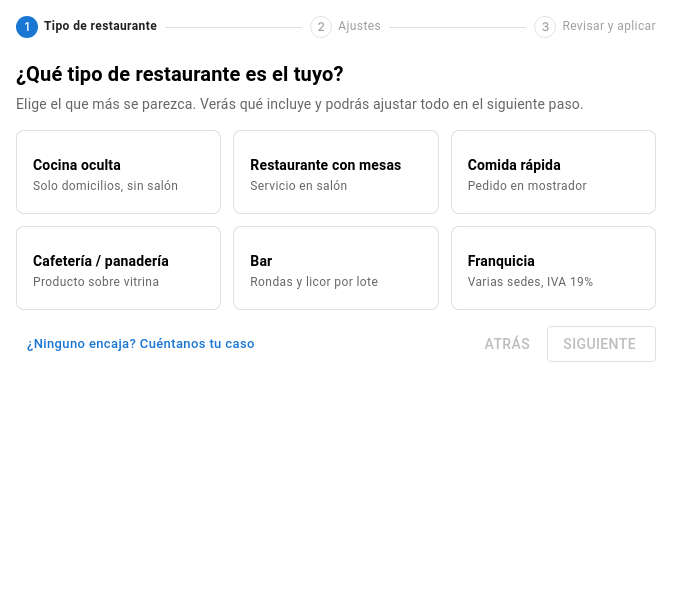
Scenario: Regresión: modo onboarding no se rompe › en modo onboarding aparece "Confirmar y aplicar" en paso 3
Click the text "Comida rápida": x=514, y=165 [468,157,561,173]
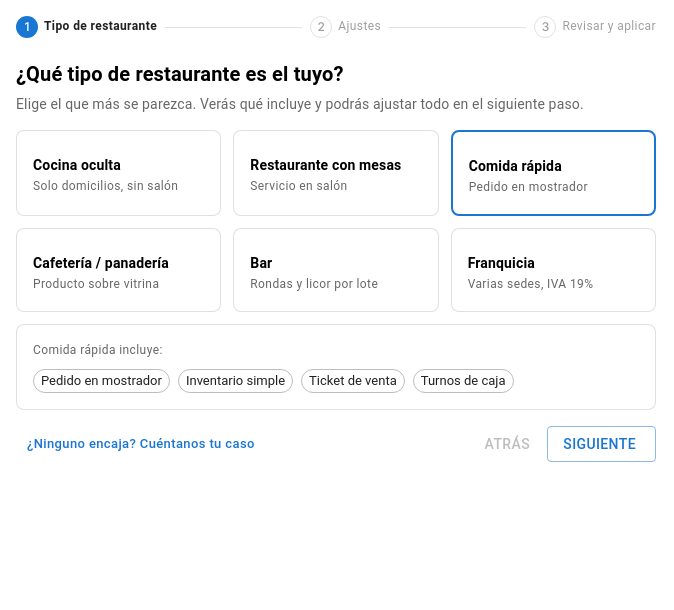
Click the button "Siguiente": x=602, y=444 [547,426,656,462]
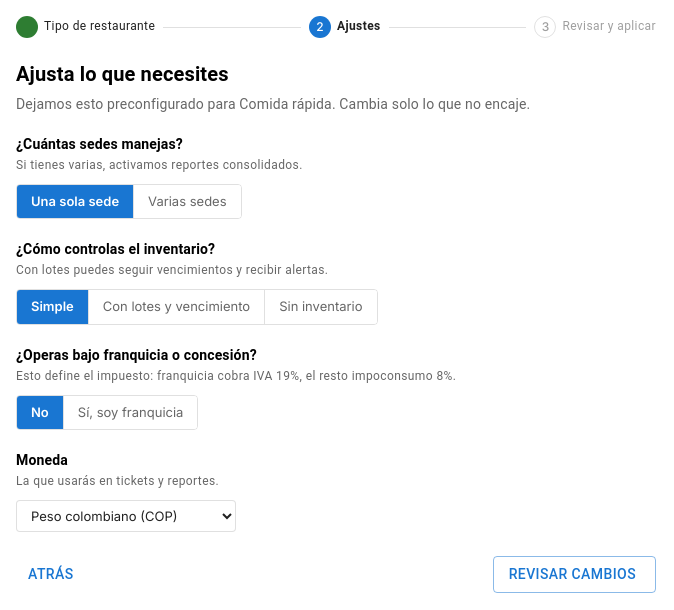
Click the button "Revisar cambios": x=574, y=574 [493,556,656,593]
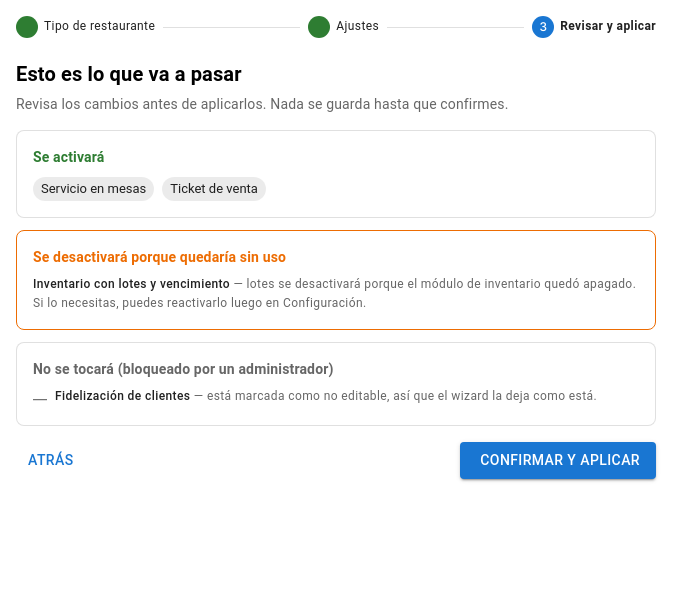
Check: the button "Confirmar y aplicar" is shown, box [460,442,656,479]
